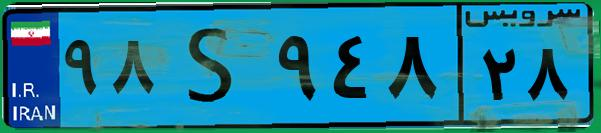2: (475, 38, 525, 113)
4: (330, 28, 385, 110)
8: (385, 28, 445, 110), (525, 38, 570, 115), (110, 28, 158, 98)
9: (270, 28, 330, 110), (57, 26, 110, 100)
S: (158, 12, 270, 120)
